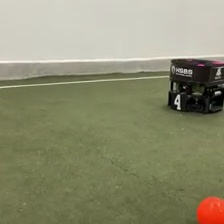ball: (194, 193, 224, 224)
robot: (165, 57, 224, 114)
